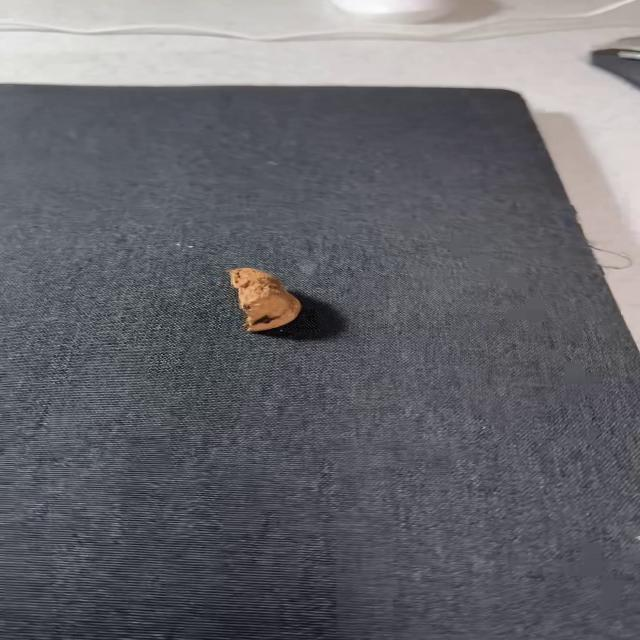nuts-bad0.25: (230, 268, 301, 332)
